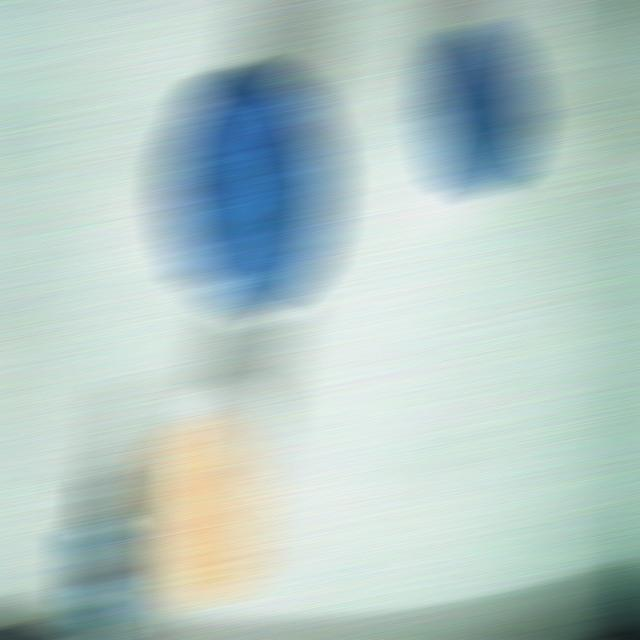blue: (163, 59, 336, 324), (429, 23, 535, 200)
yellow: (139, 414, 264, 609)
